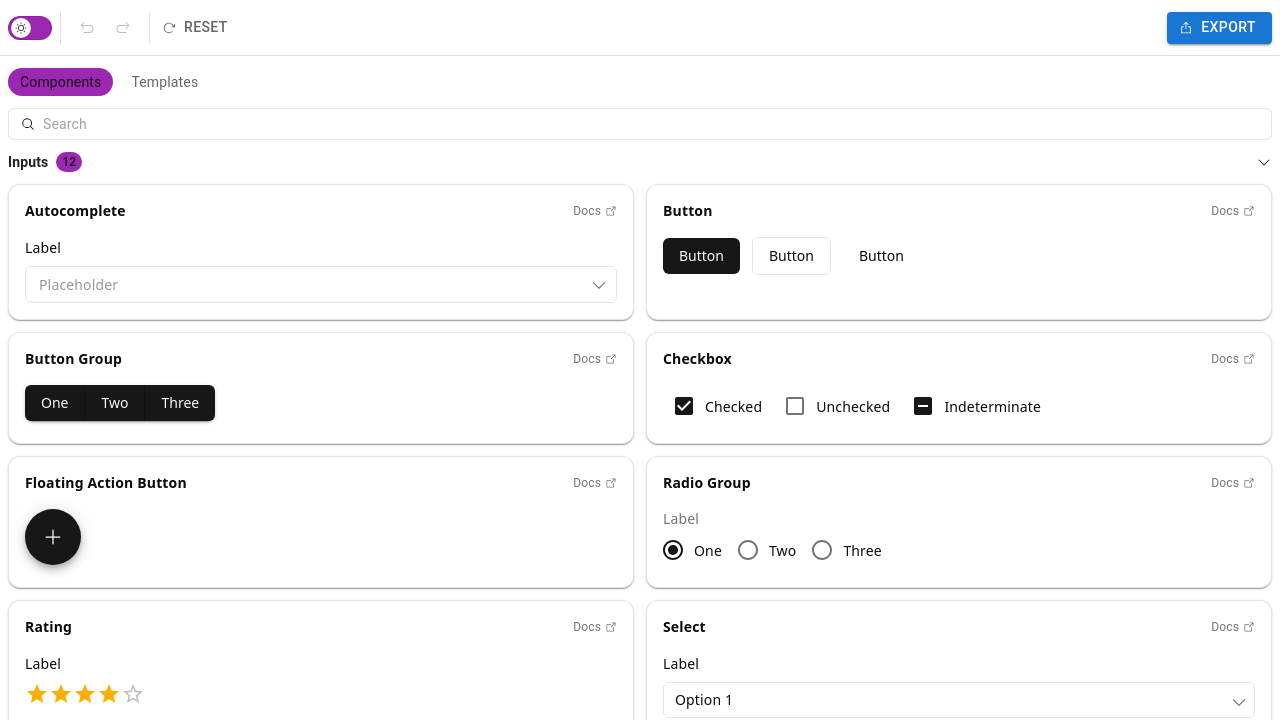
Test: PreviewArea (Phase 3) › shows the four template stubs on the Templates tab
Click the text "Templates" at (165, 82), box [131,74,198,90]
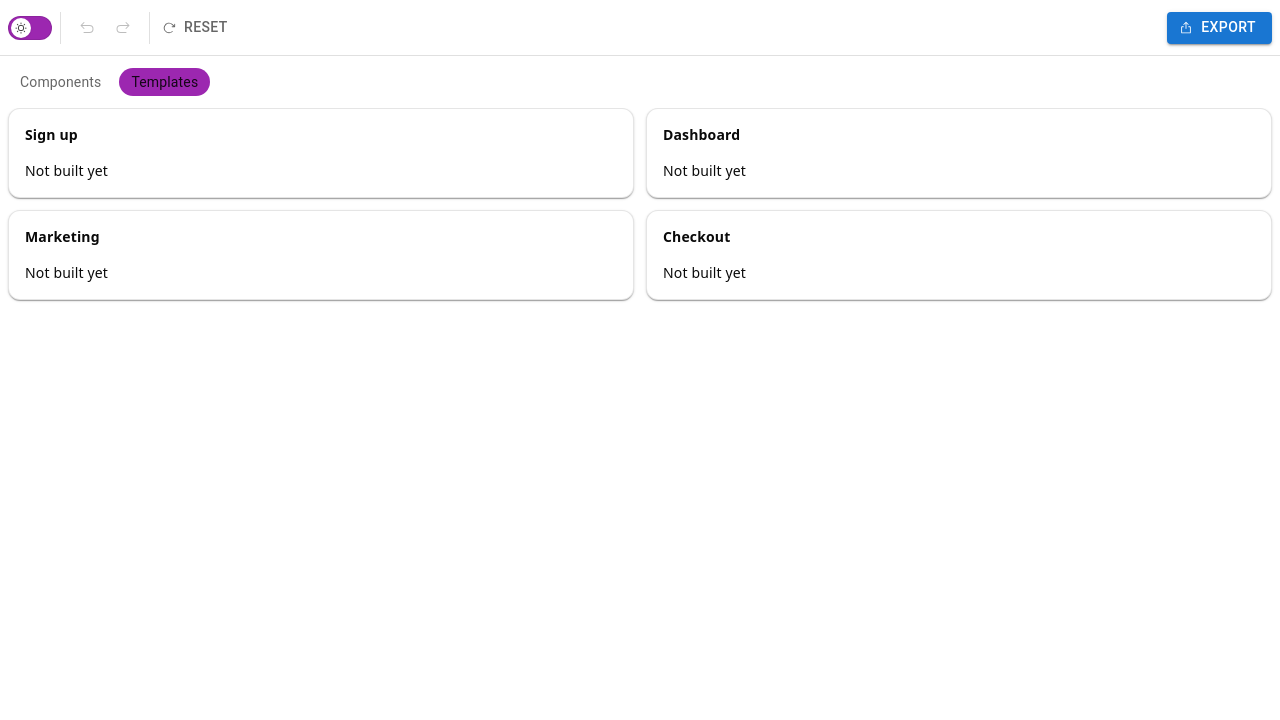
Check: the text "Sign up" is shown, box [25,125,78,145]
Check: the text "Dashboard" is shown, box [663,125,740,145]
Check: the text "Marketing" is shown, box [25,227,100,247]
